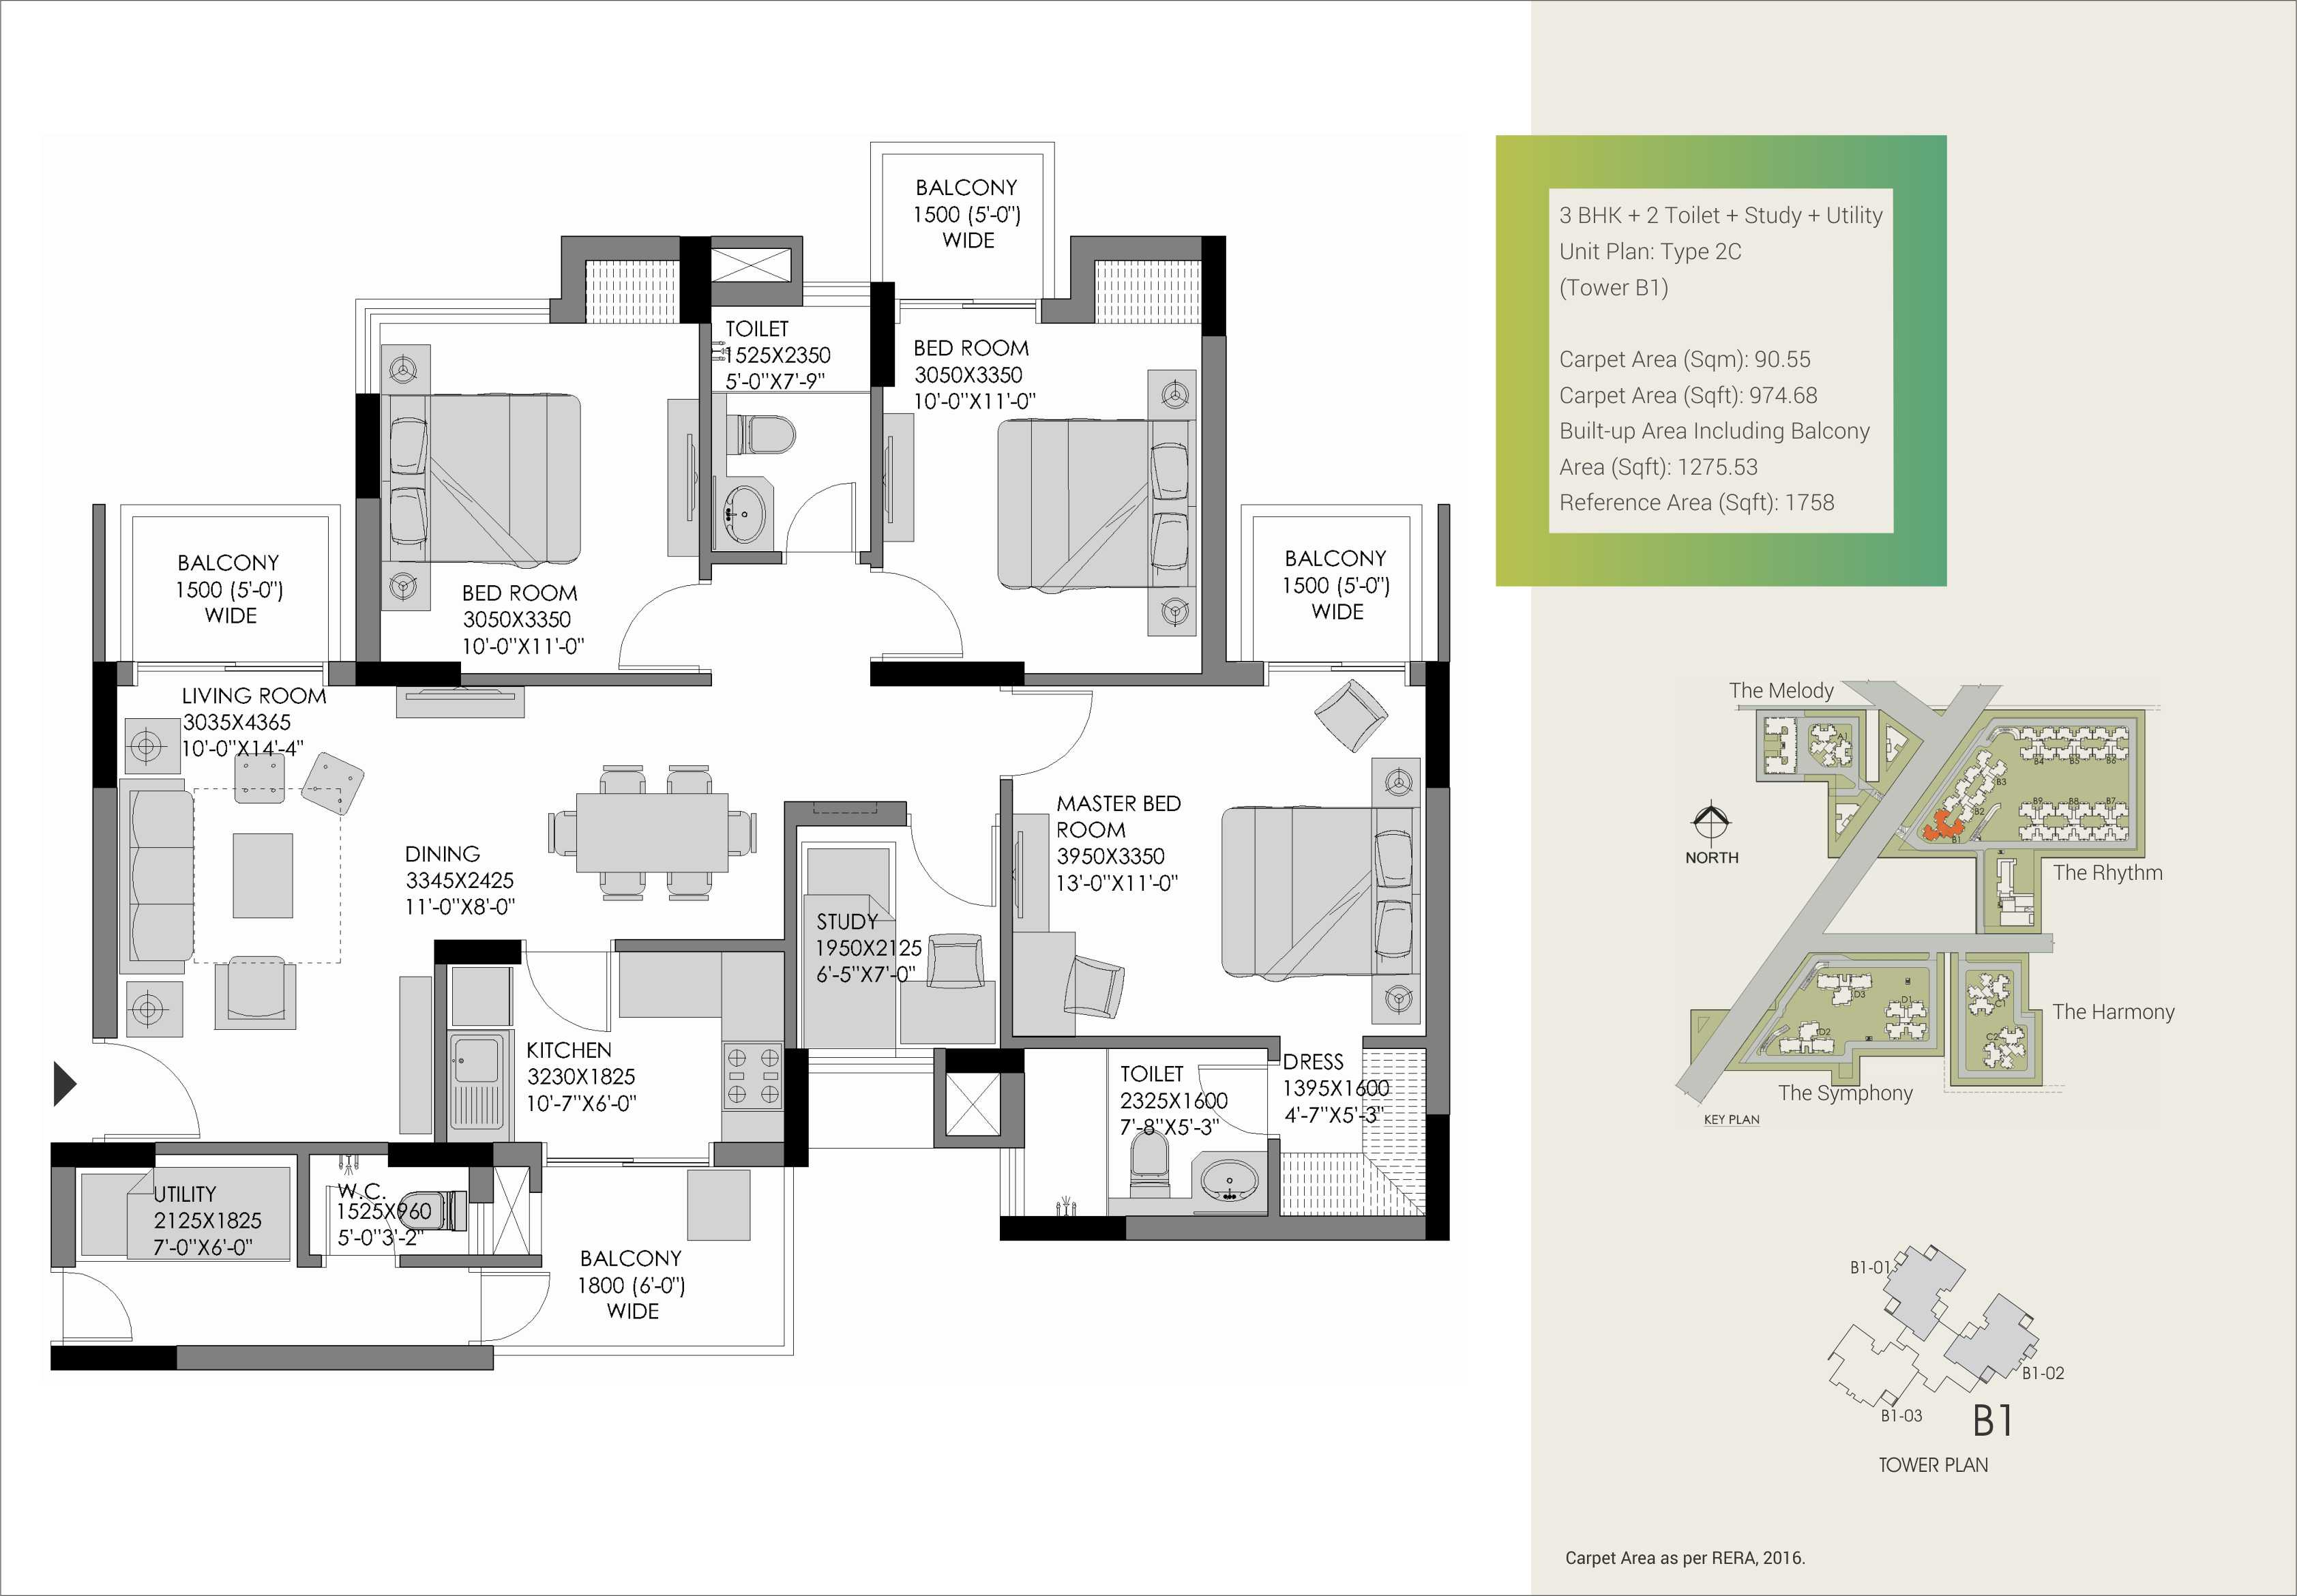door: (112, 1041, 208, 1140), (887, 569, 969, 660), (1018, 688, 1100, 777), (906, 829, 997, 910), (527, 964, 614, 1035), (784, 471, 862, 548), (611, 594, 689, 671), (72, 1266, 143, 1343), (1190, 1062, 1264, 1135), (487, 1269, 559, 1341)
